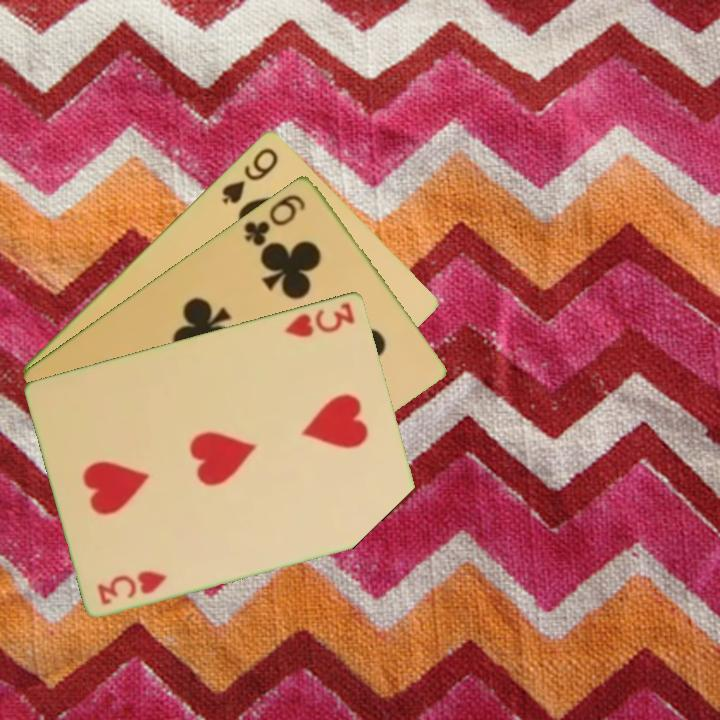3h: (282, 298, 358, 340), (94, 566, 171, 607)
6c: (240, 190, 309, 249)
9s: (218, 143, 281, 207)
